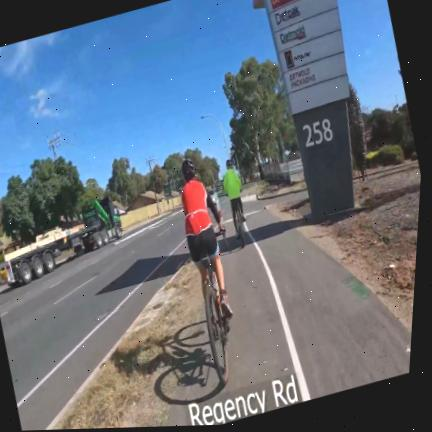Bike_Lane: (166, 211, 412, 426)
